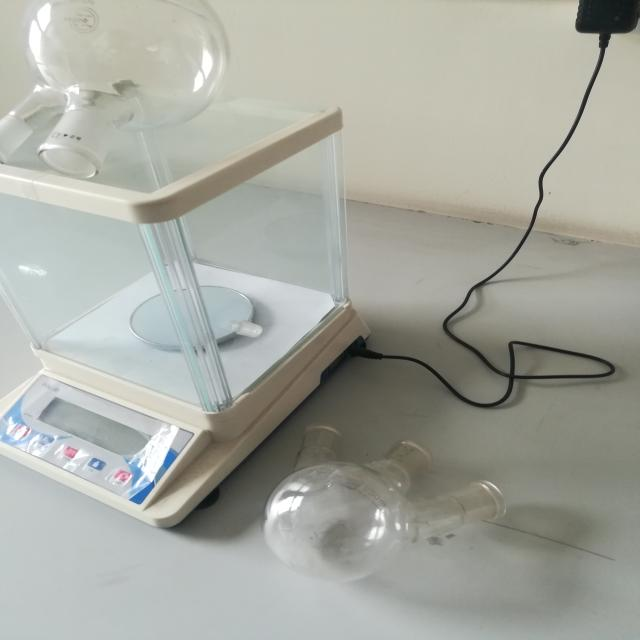Round_Bottom_Flask_Borosilicate_Glass_2_Neck: (0, 0, 273, 194)
Round_Bottom_Flask_Borosilicate_Glass_3_Neck: (230, 386, 528, 592)
